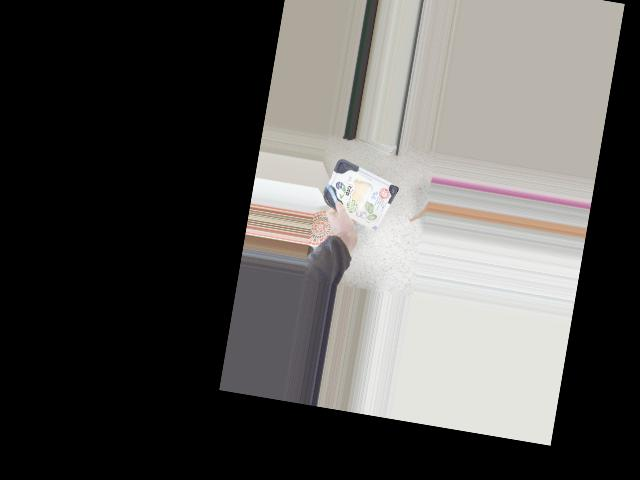cheese: (318, 156, 402, 231)
